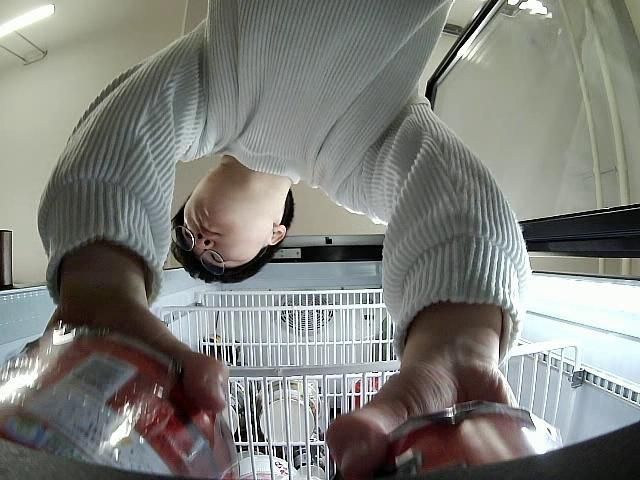01_ShinRamen_L: (2, 326, 237, 480), (375, 401, 564, 480)
